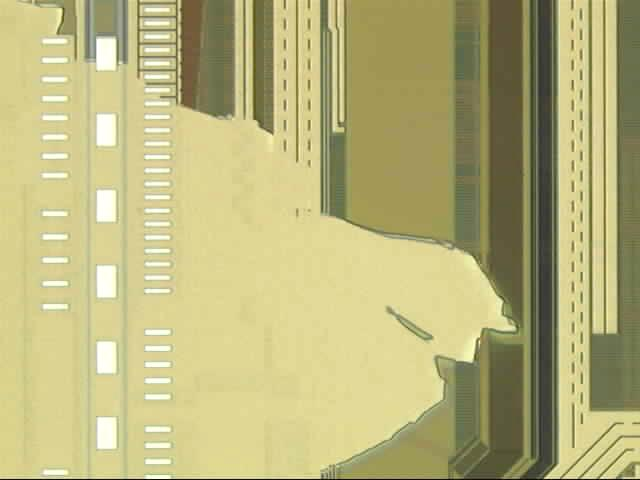COATING BAD: (1, 1, 522, 480)
